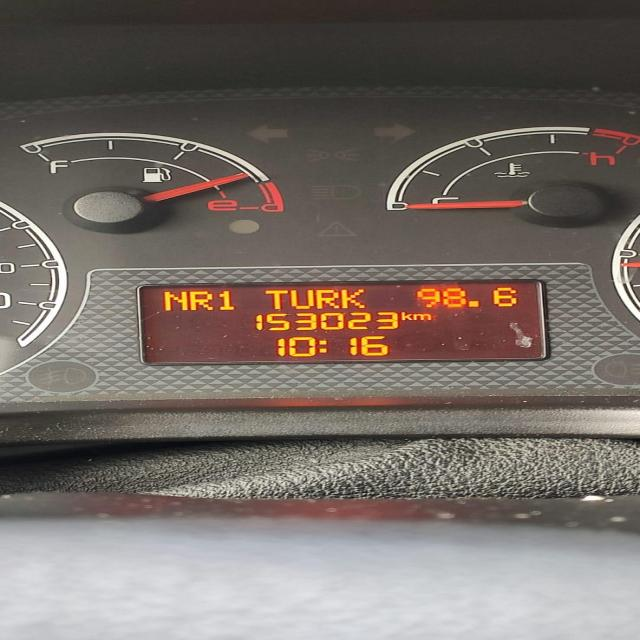odometer: (137, 279, 558, 362)
